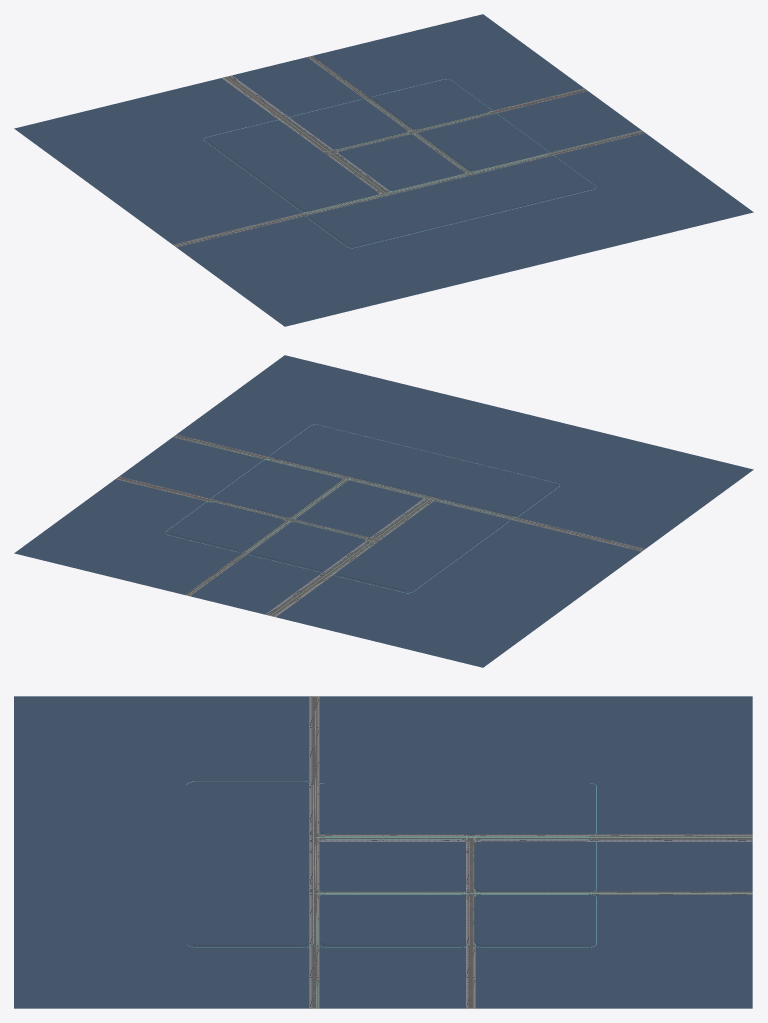
File: floor.obj
The picture shows the model from 3 angles, top to bottom: view 1: azimuth 30°, elevation 25°; view 2: azimuth 150°, elevation 25°; view 3: azimuth 270°, elevation 25°; orthographic projection. The views are drawn at different scales.
Size of the model in its own units: 24292 by 10.25 by 24309.
3 materials, 1 textured.
